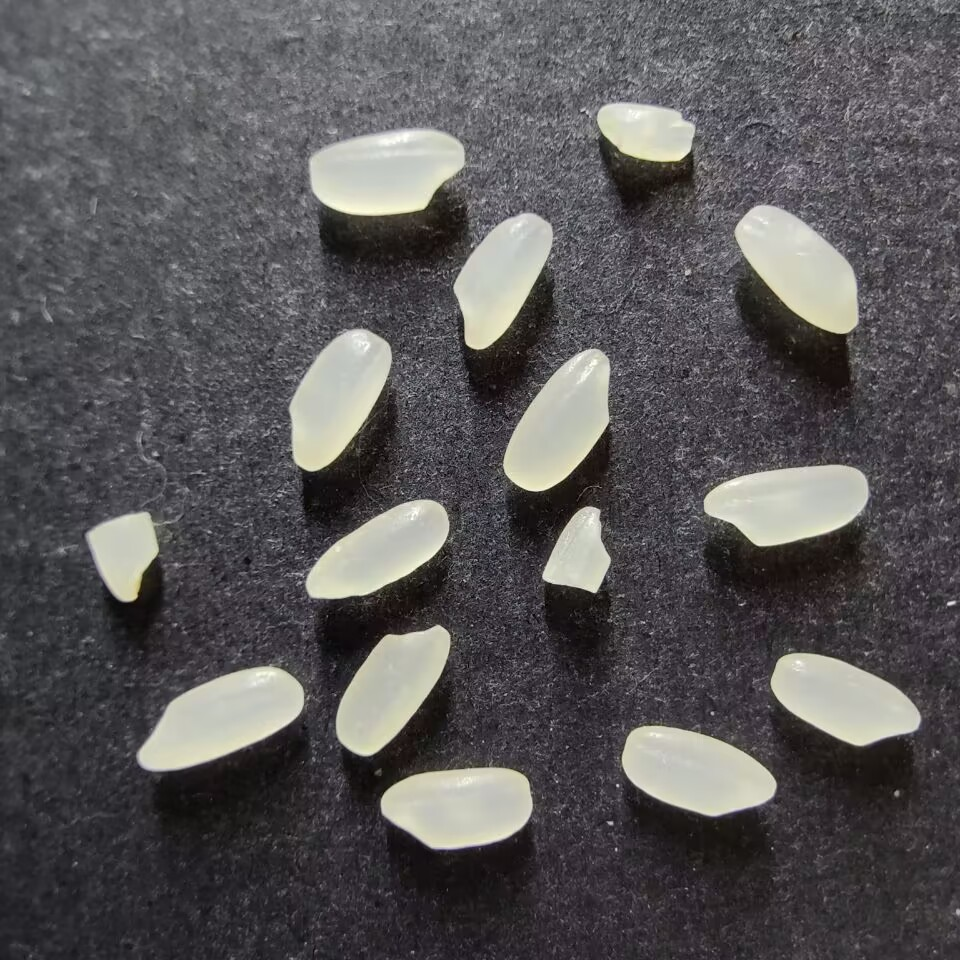broken: (85, 511, 159, 602), (541, 505, 611, 593), (596, 102, 695, 162)
rice: (137, 665, 304, 773), (734, 204, 860, 334), (502, 348, 611, 492), (334, 623, 451, 757), (288, 327, 392, 472), (304, 499, 450, 600), (621, 725, 777, 817), (770, 652, 921, 747), (702, 463, 869, 547), (452, 212, 553, 349), (308, 128, 465, 215), (379, 766, 533, 849)
